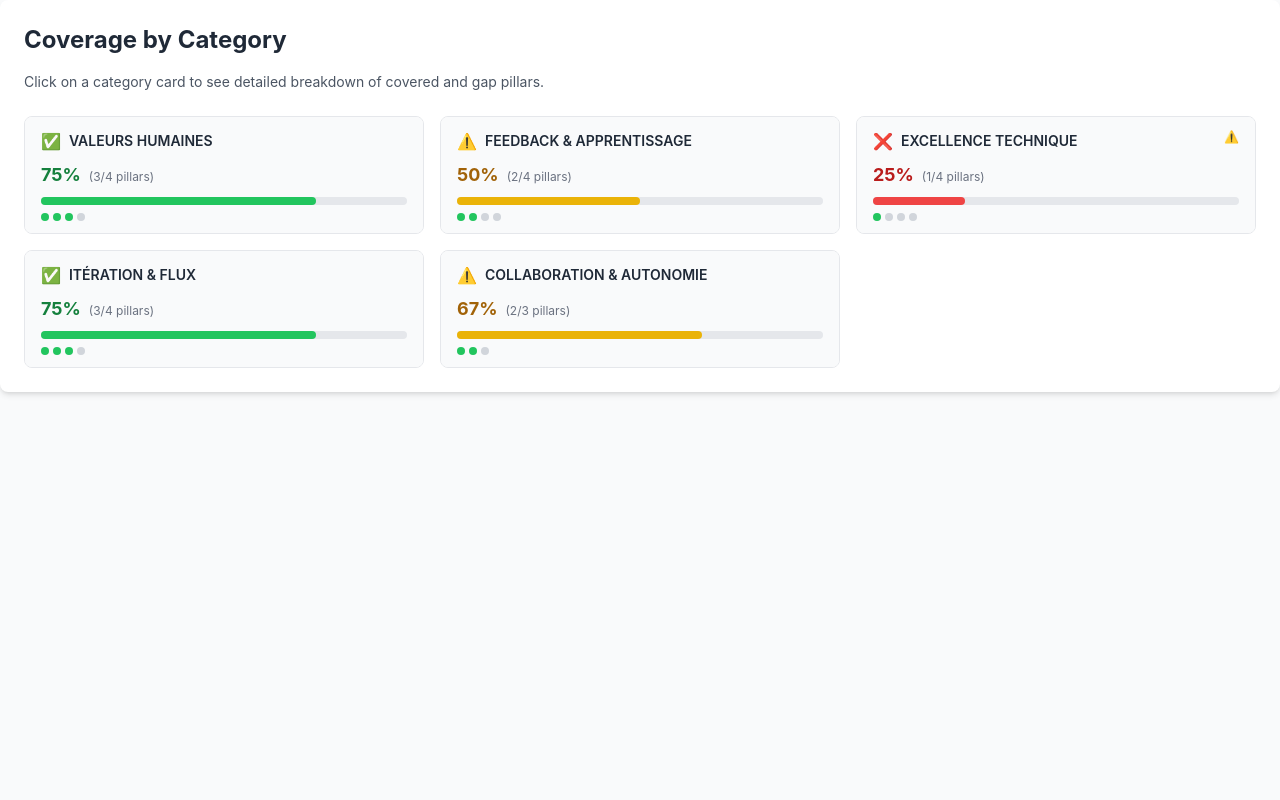
CategoryCoverageBreakdown › expands category to show detail view when clicked
Expected: the text "Communication" is not shown
Click the button "✅ VALEURS HUMAINES 75%(3/4 pillars)" at (141, 140), box [25,117,423,233]
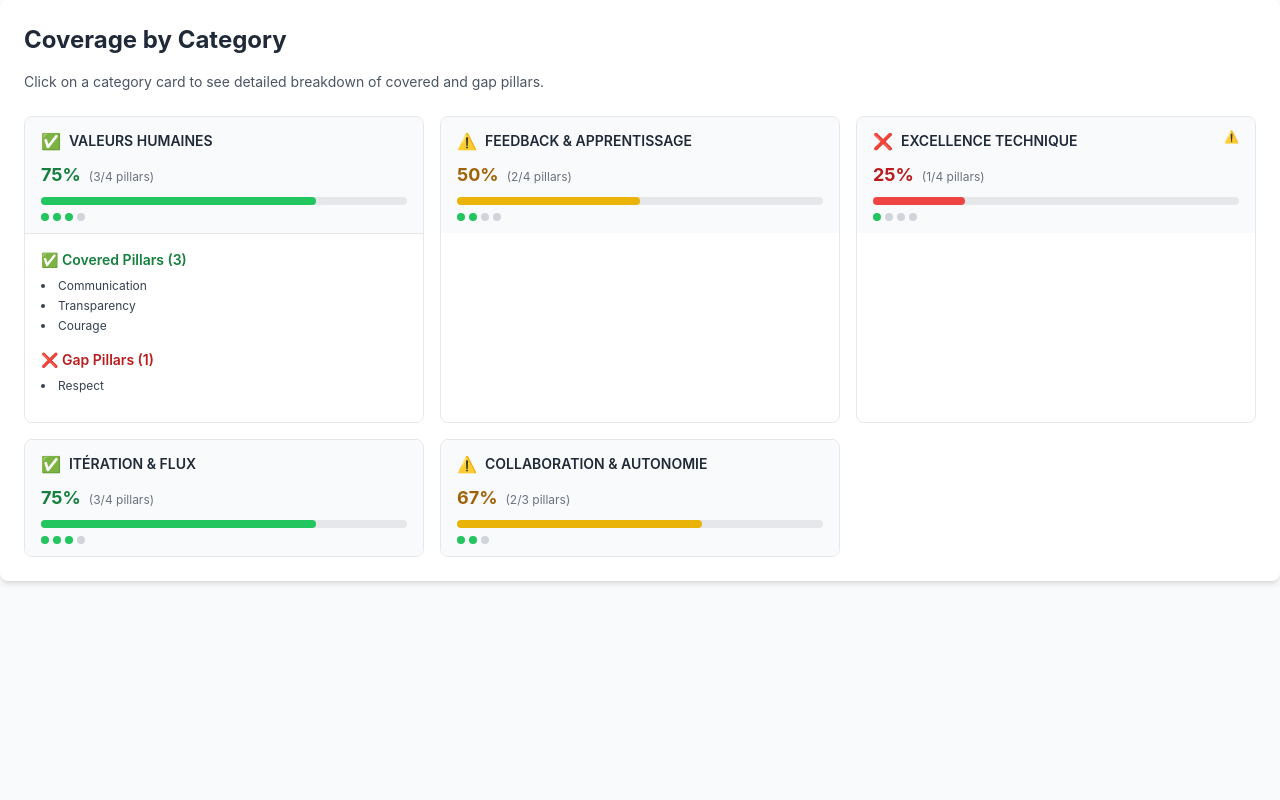
Now the list item "Communication" is shown, box [58,278,147,293]
Now the list item "Transparency" is shown, box [58,298,136,313]
Now the list item "Courage" is shown, box [58,318,107,333]
